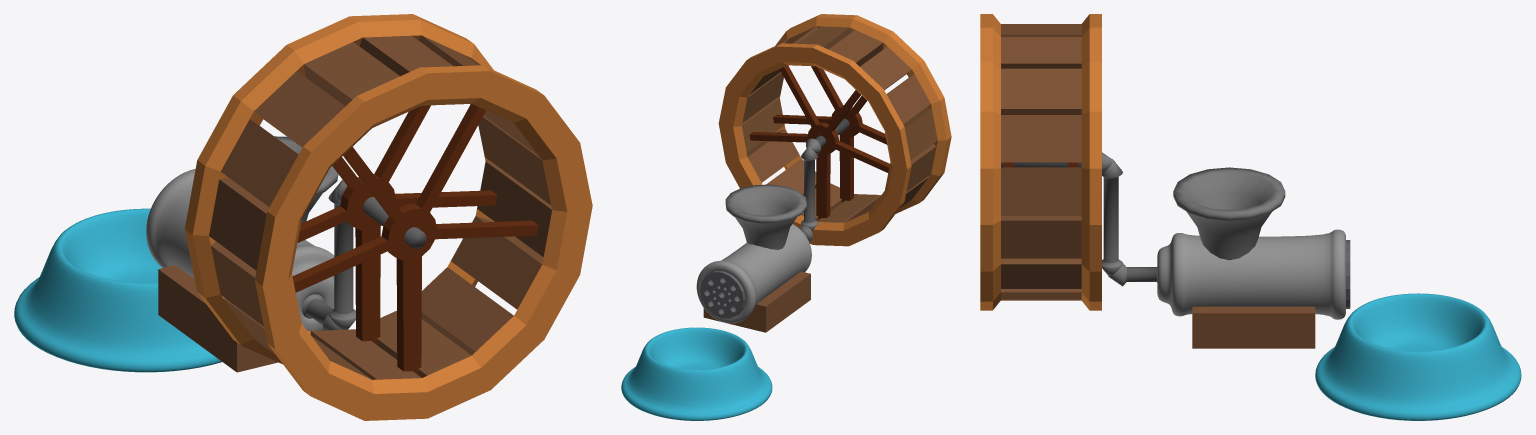
Rendered from fleischwolf.fbx.
3 renders of one model, left to right at view 1: azimuth 30°, elevation 25°; view 2: azimuth 150°, elevation 25°; view 3: azimuth 270°, elevation 25°, orthographic. The views are drawn at different scales.
Parts seen in each view (by area): view 1: Rad, Schussel, Kolbel, wolfhalterung, drehkolben.001, drehkolben.002, drehkolben, Trichter; view 2: Rad, Schussel, Kolbel, Trichter, wolfhalterung, Wolf, drehkolben.001, drehkolben.002; view 3: Rad, Schussel, Kolbel, Trichter, wolfhalterung, drehkolben.001, drehkolben, drehkolben.002.
Boxes of the visible parts, x1,y1,x2,y2 form: Rad: (184, 14, 592, 420); Schussel: (14, 208, 221, 372); Kolbel: (146, 169, 334, 330); wolfhalterung: (158, 265, 277, 372); drehkolben.001: (328, 180, 355, 329); drehkolben.002: (337, 180, 426, 248); drehkolben: (301, 294, 339, 330); Trichter: (274, 136, 338, 223); Rad: (718, 14, 951, 246); Schussel: (621, 327, 772, 420); Kolbel: (696, 224, 811, 323); Trichter: (725, 184, 806, 249); wolfhalterung: (703, 271, 810, 332); Wolf: (700, 271, 745, 318); drehkolben.001: (801, 146, 818, 230); drehkolben.002: (806, 118, 849, 154); Rad: (980, 14, 1101, 310); Schussel: (1315, 293, 1521, 420); Kolbel: (1157, 229, 1345, 319); Trichter: (1173, 167, 1285, 260); wolfhalterung: (1192, 306, 1315, 348); drehkolben.001: (1102, 159, 1122, 276); drehkolben: (1108, 263, 1157, 286); drehkolben.002: (1001, 152, 1114, 173).
Bounding box in the file's own units: 1843 × 3360 × 2406.
